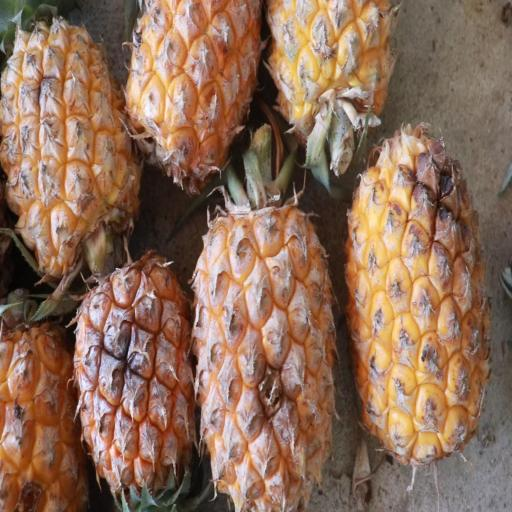Pineapple - v8 v1: (190, 149, 342, 512), (339, 127, 492, 467), (0, 0, 143, 290), (73, 245, 197, 512), (124, 0, 266, 189), (264, 0, 400, 165), (0, 292, 88, 509)
